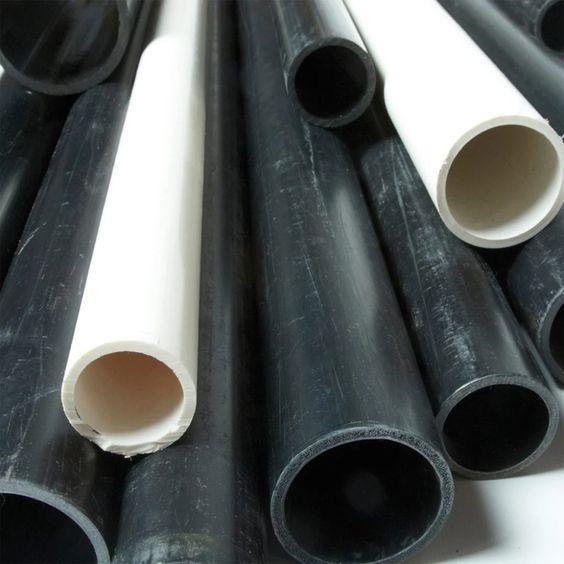PVC: (0, 0, 439, 564), (348, 0, 564, 471)
